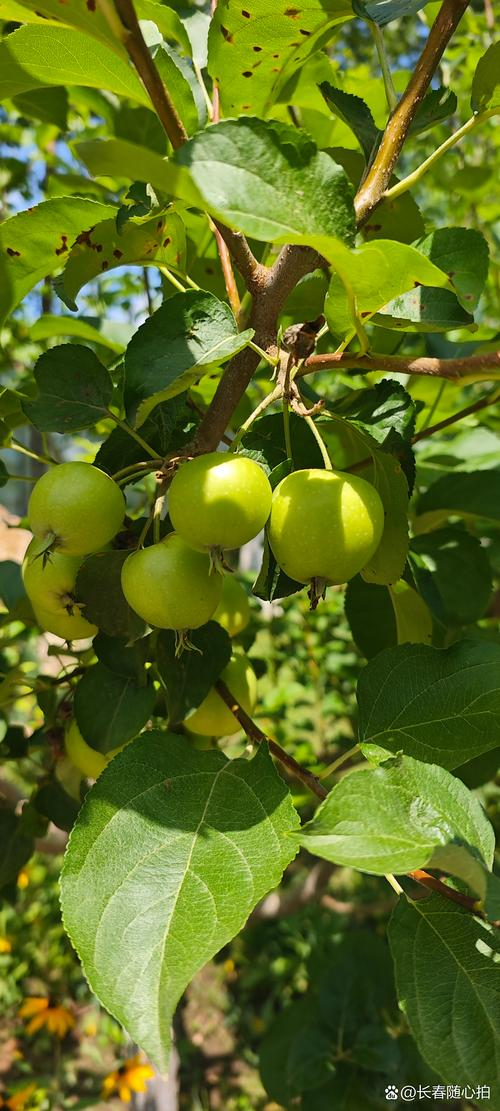unripe: (261, 456, 394, 612), (147, 442, 286, 567), (105, 527, 241, 643), (6, 442, 125, 564)
